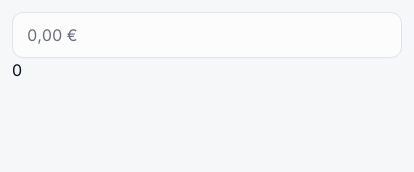
it: monetary fields › edits euro cents and accepts Portuguese grouping without converting the amount
Later steps or results of the test are not shown.
In the field named "Valor": coordinates (207, 35) [12,12,402,58], type "1234567"
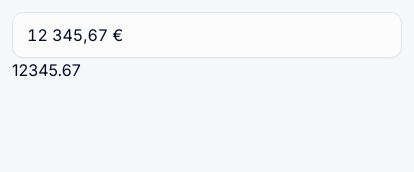
Expected: the field named "Valor" holds "12 345,67 €", [12,12,402,58]
Expected: the text "12345.67" is shown, [12,60,81,80]
